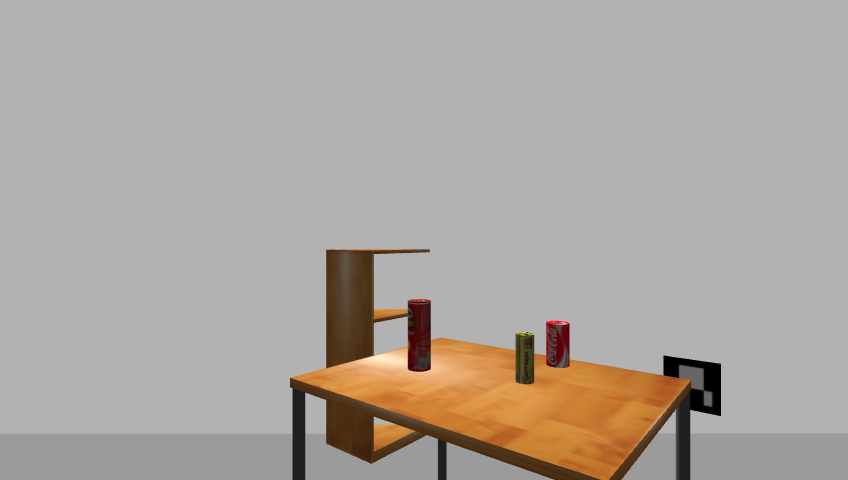aruco marker: (658, 353, 727, 419)
biscuits pack: (514, 332, 535, 386)
bookshelf: (320, 245, 434, 465)
coke can: (543, 320, 572, 370)
dinner table: (285, 338, 699, 480)
pringles can: (405, 298, 433, 374)
